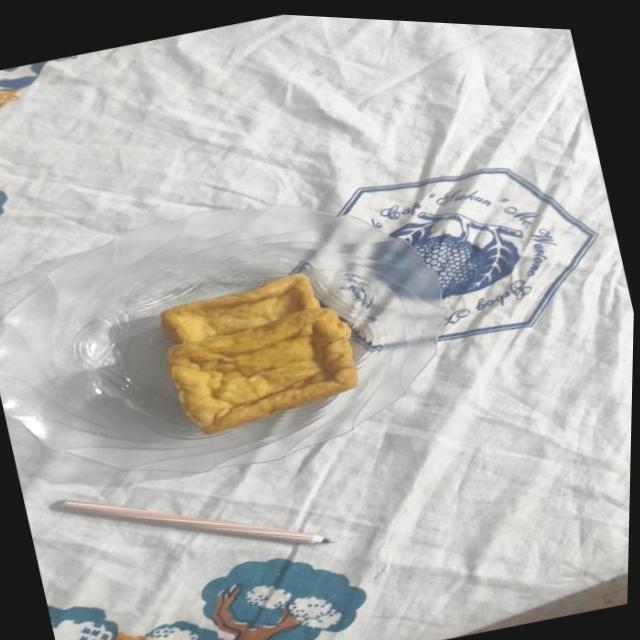tahu_goreng: (168, 307, 357, 433), (160, 273, 320, 343)
